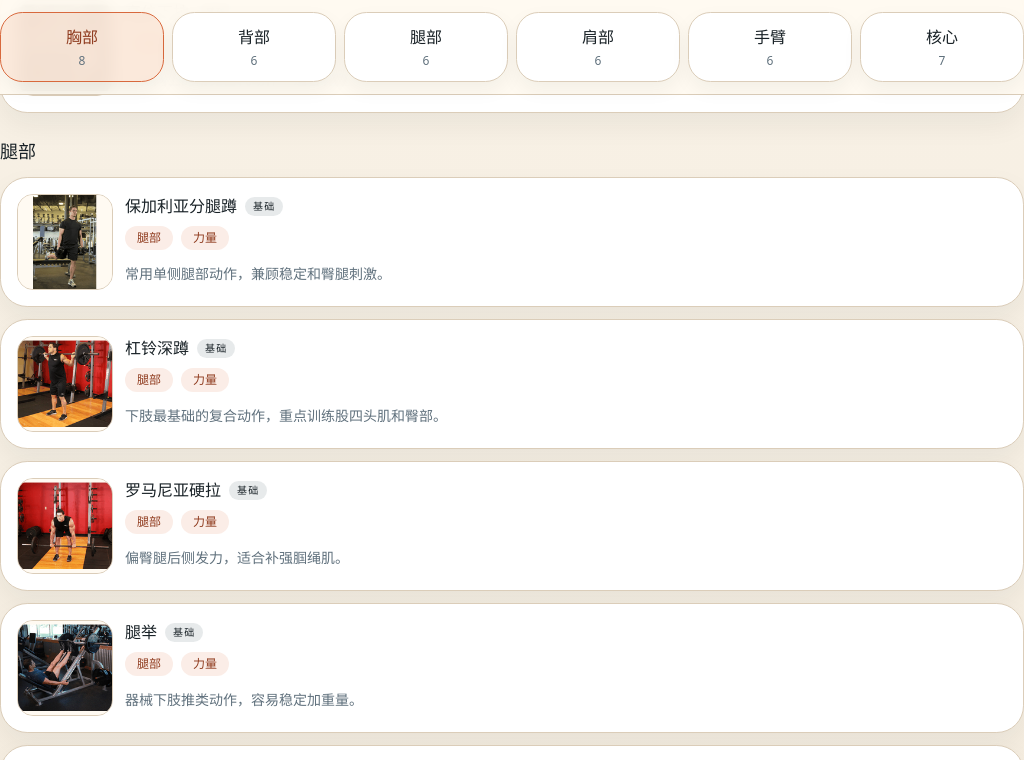
Workout entry flow › selects an exercise first, then creates a workout entry
The image size is (1024, 760).
(page scrolled)
Click the link "杠铃深蹲 基础 腿部 力量 下肢最基础的复合动作，重点训练股四头肌和臀部。" at coordinates (65, 384), box [0,319,1023,449]
(page scrolled)
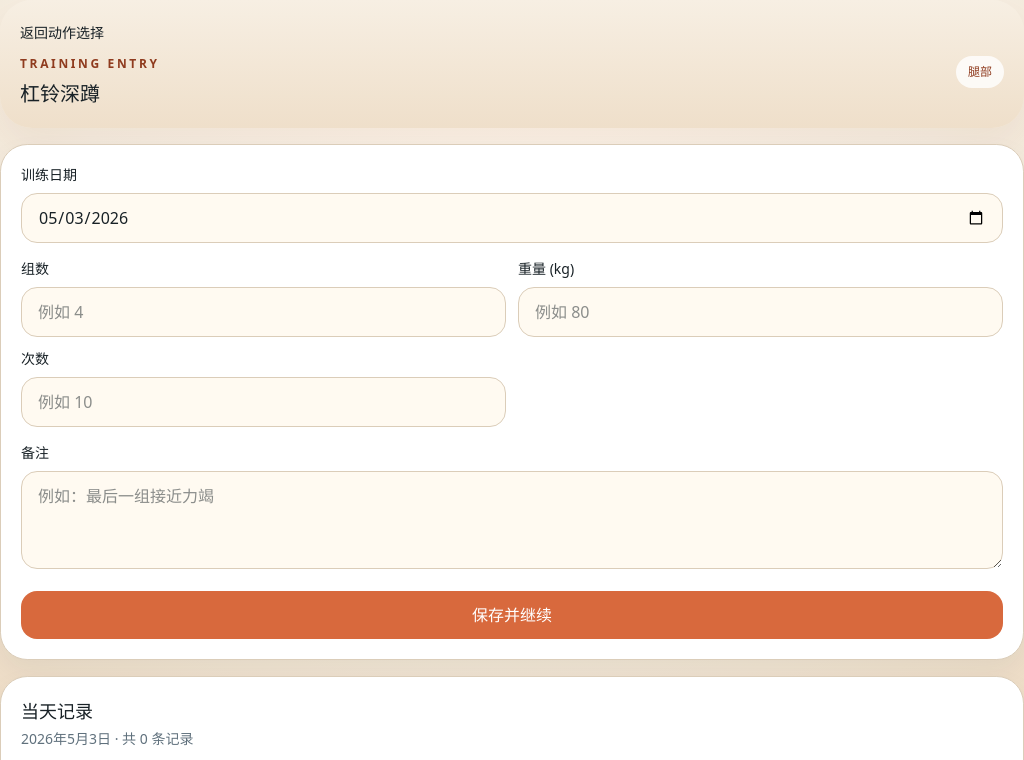
Check: the heading "杠铃深蹲" is shown, box [20,80,100,107]
Type "4" into the number field labelled "组数" at coordinates (264, 312), box [21,287,506,337]
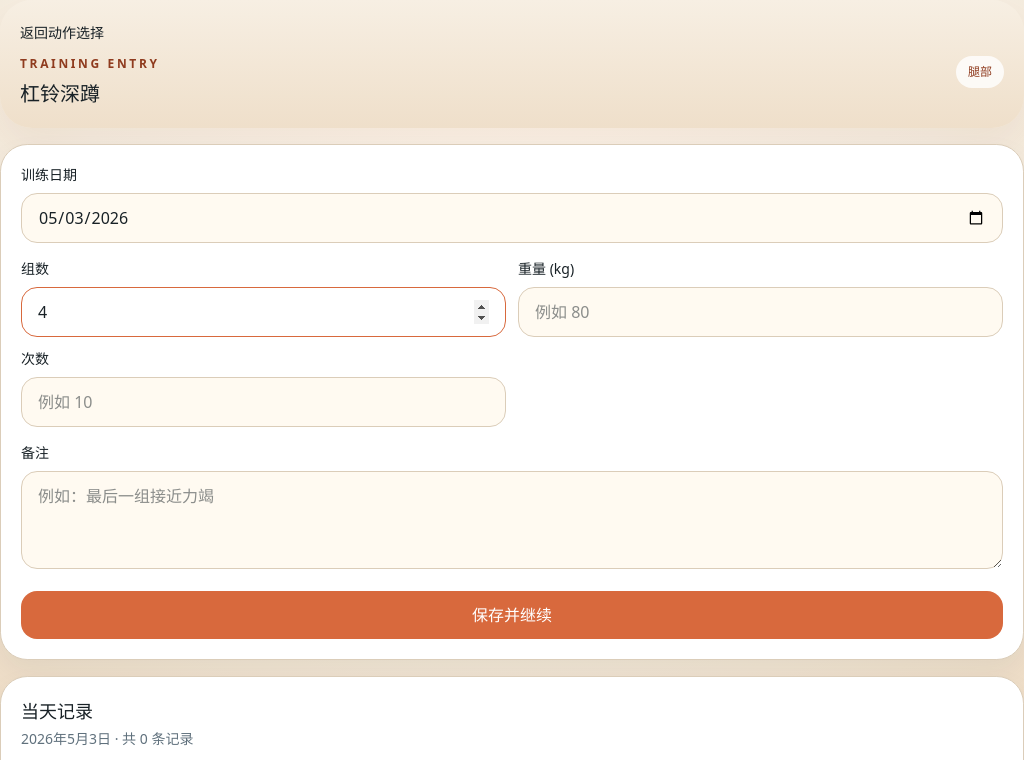
Type "100" into the number field labelled "重量 (kg)" at coordinates (760, 312), box [518,287,1003,337]
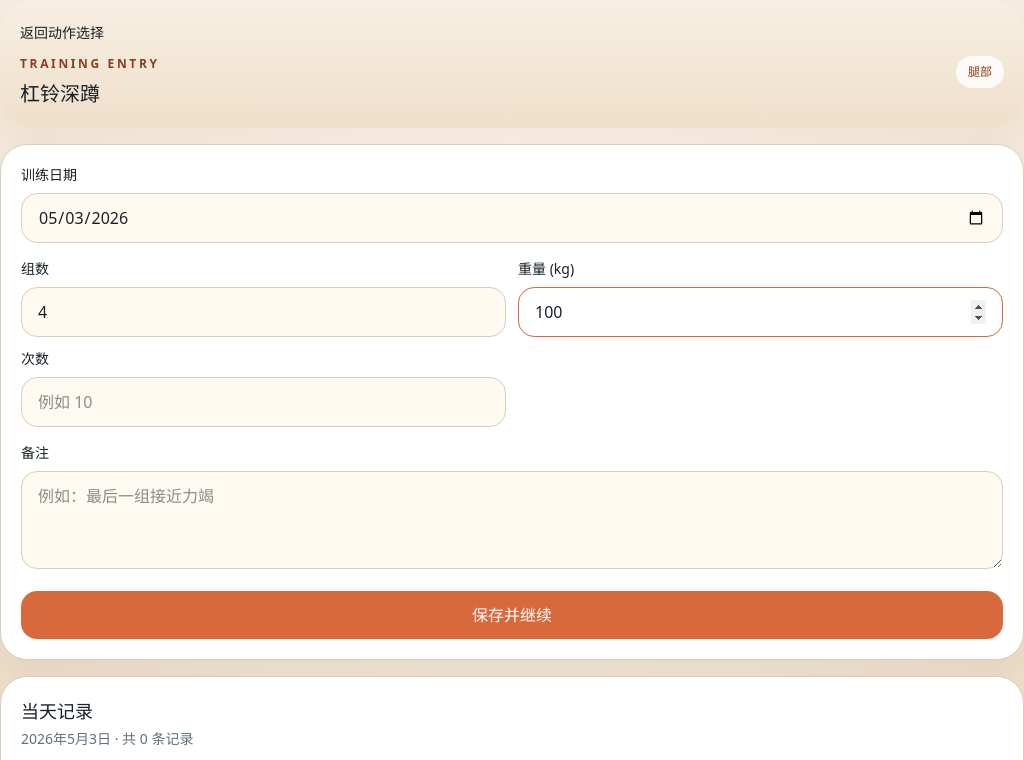
Type "8" into the number field labelled "次数" at coordinates (264, 402), box [21,377,506,427]
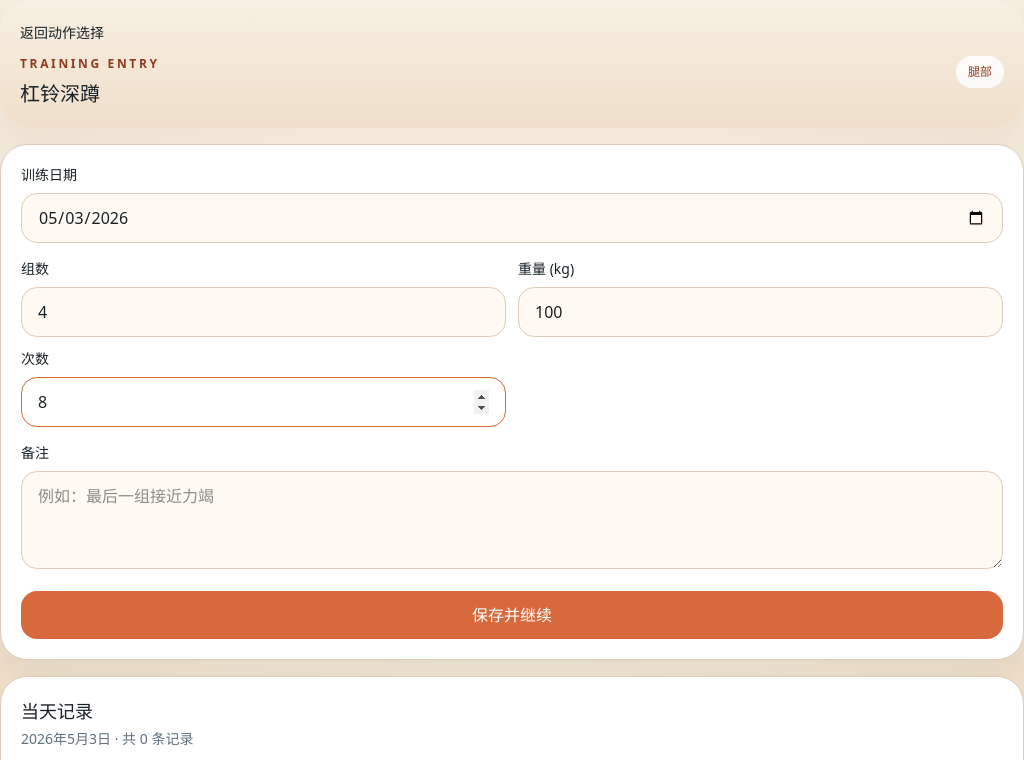
Type "最后一组很吃力" into the text box labelled "备注" at coordinates (512, 520), box [21,471,1003,569]
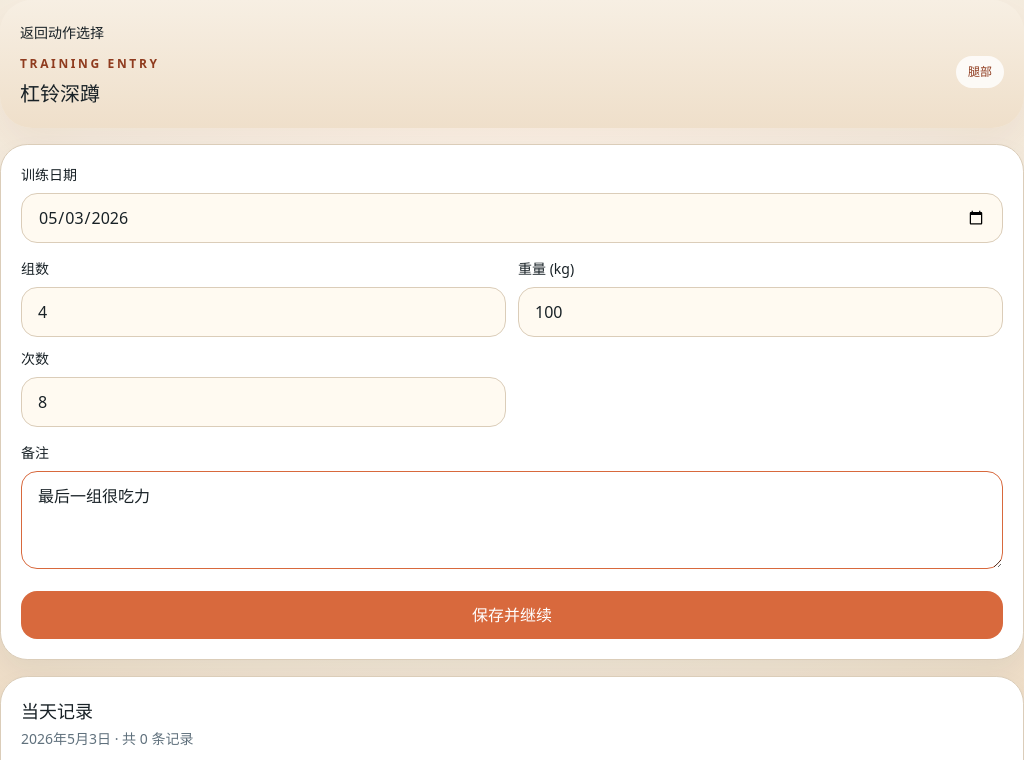
Click the button "保存并继续" at coordinates (512, 615), box [21,591,1003,639]
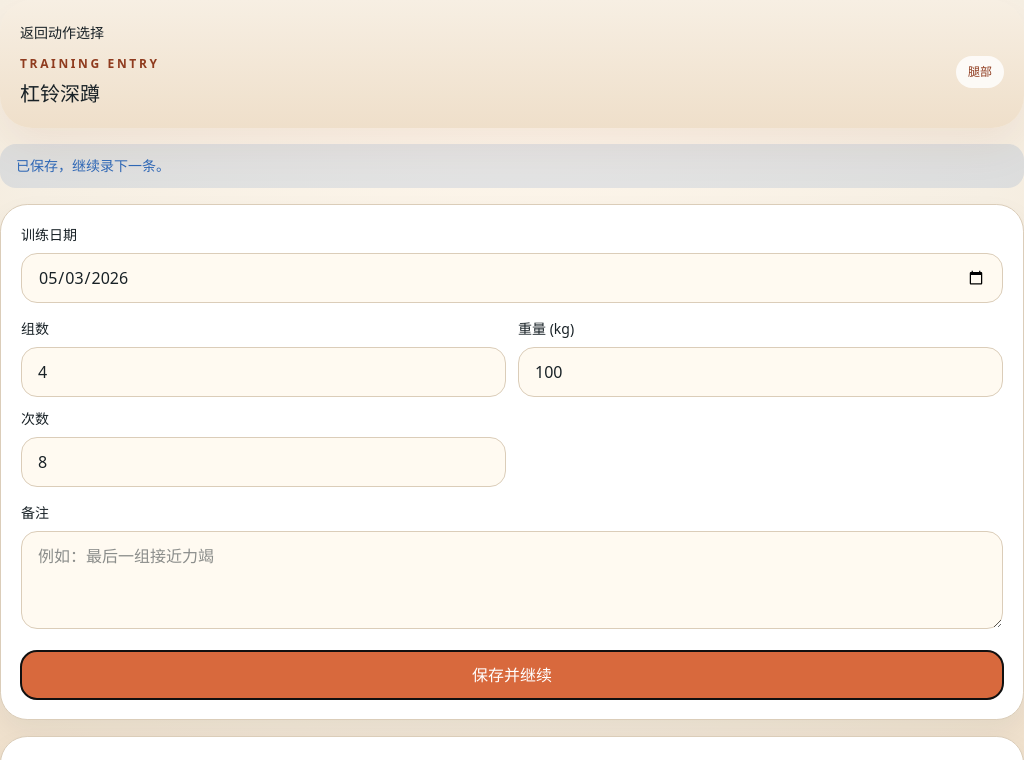
Check: the heading "杠铃深蹲" is shown, box [20,80,100,107]
Check: the text "已保存，继续录下一条。" is shown, box [0,144,1023,188]
